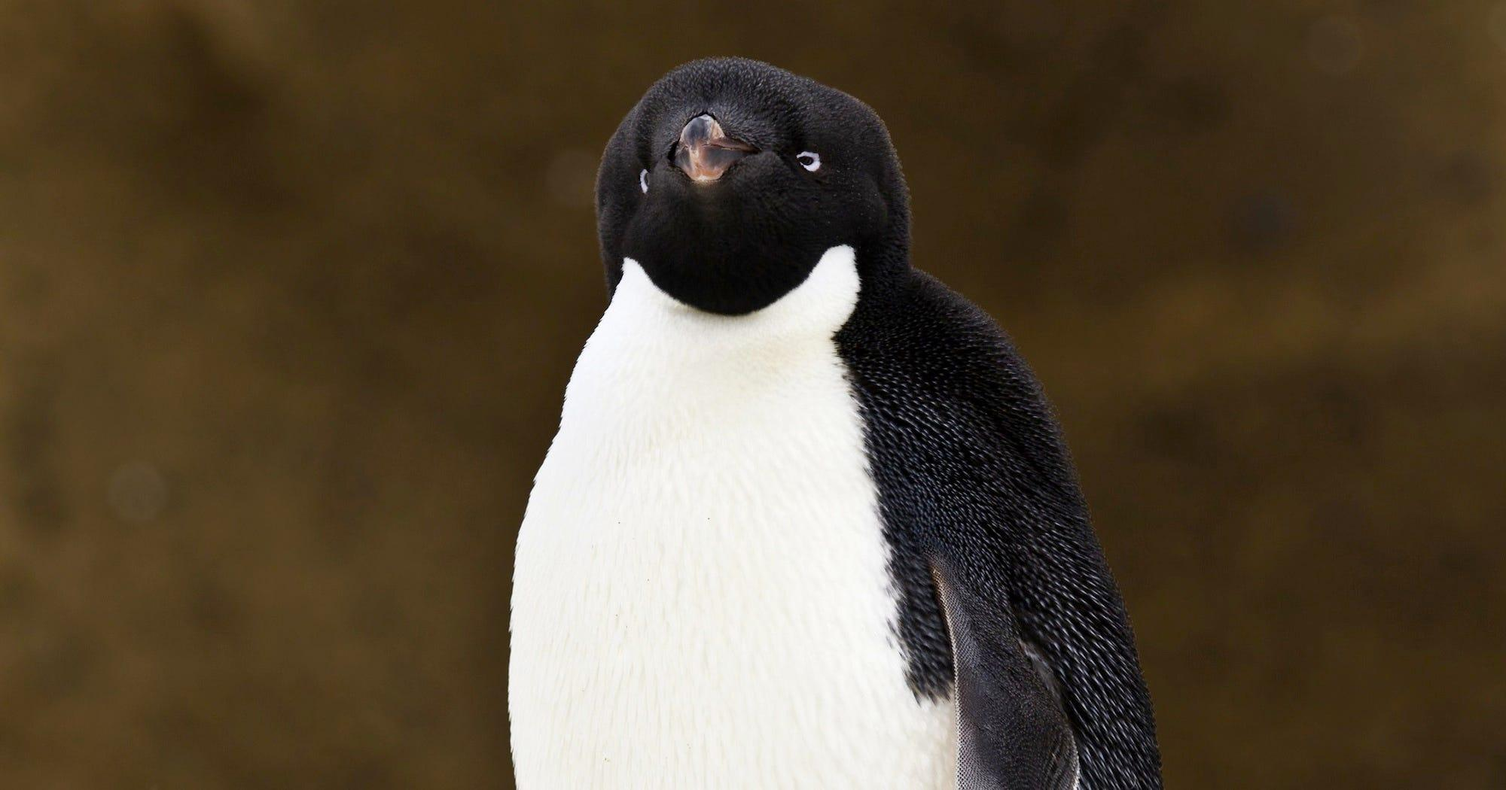Penguin: (509, 59, 1162, 785)
